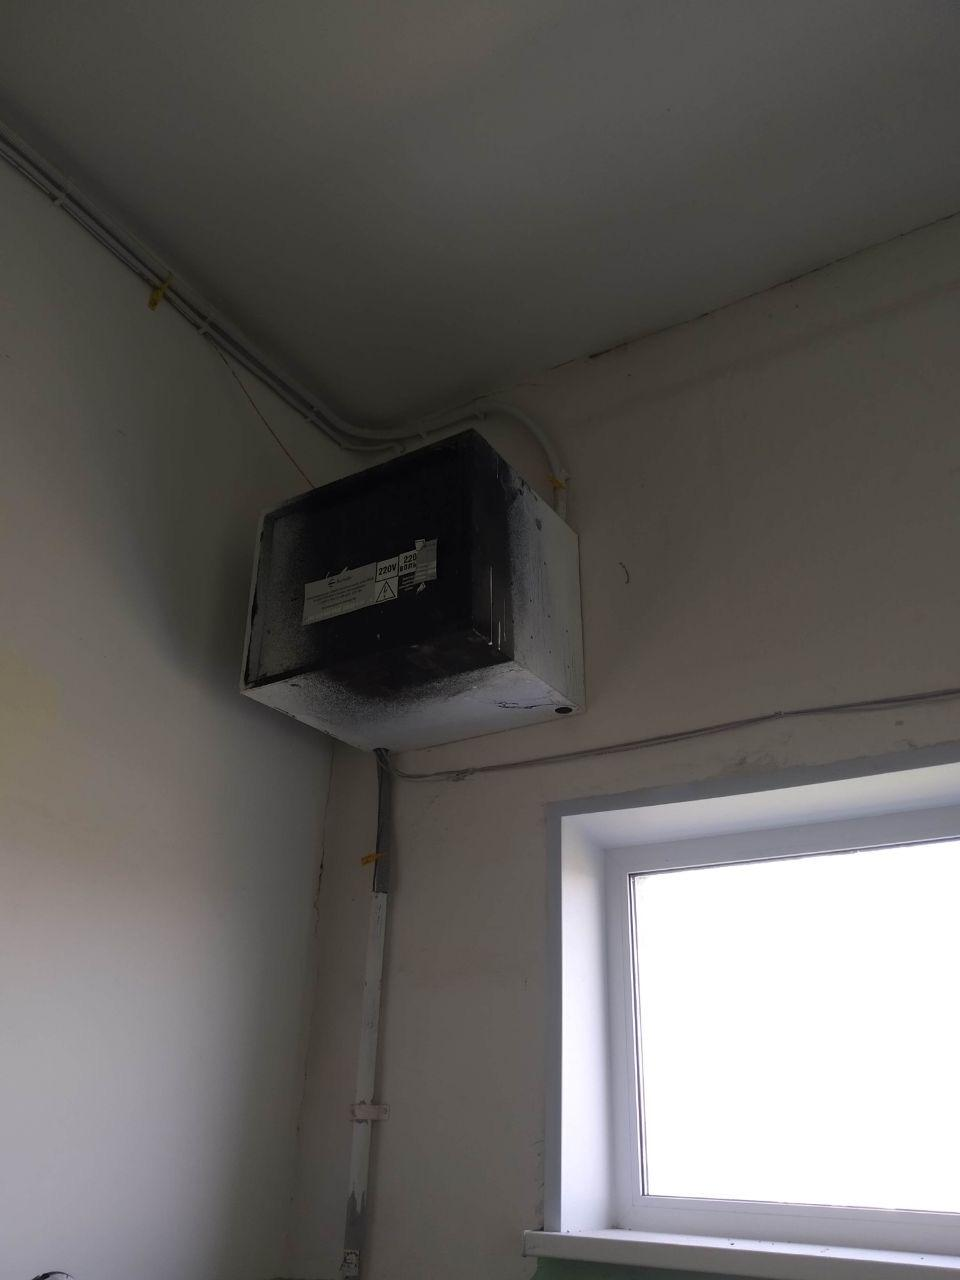shta-9m: (229, 414, 596, 767)
